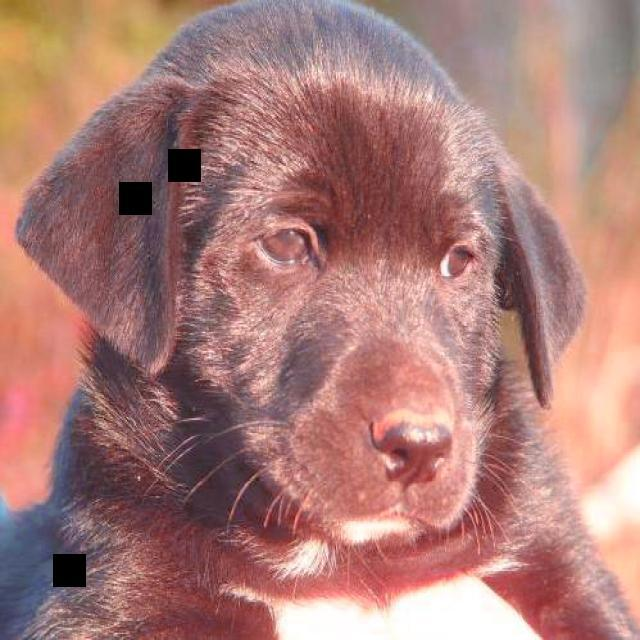puppy-dog: (2, 1, 638, 633)
